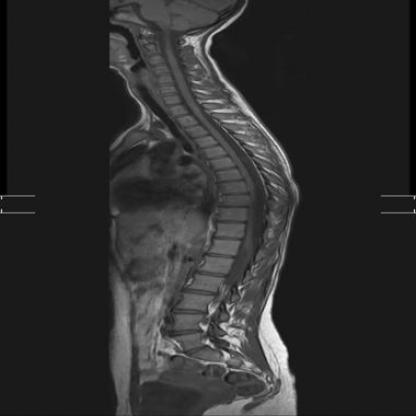Disc Bulgerotation: (219, 203, 248, 212), (222, 191, 250, 200), (217, 177, 245, 186), (155, 69, 171, 78)
